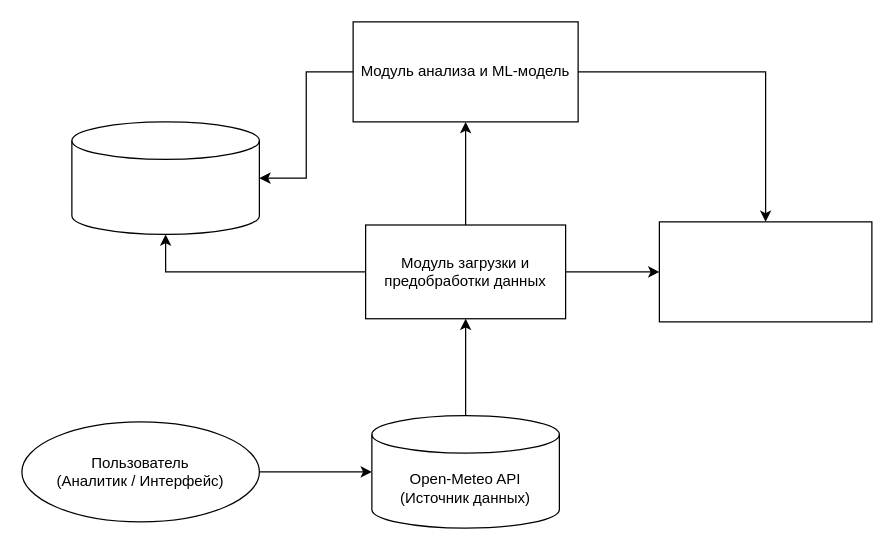
This 894x550 diagram has some shape labels left out. The shapes that lost their labels are listed below. From the top down, each one's centre as x and y in pixels, then its label:
At point 165,177: "Хранилище данных (CSV / База данных)".
At point 765,271: "Модуль визуализации и отчетности".
